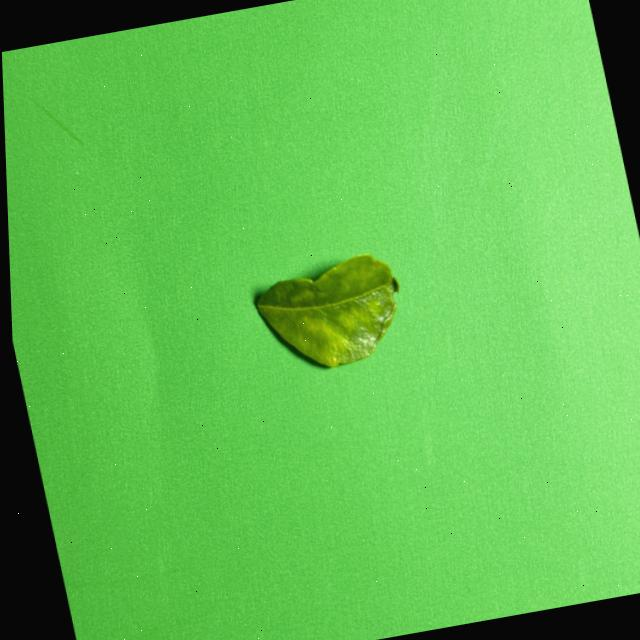greening: (256, 255, 397, 366)
